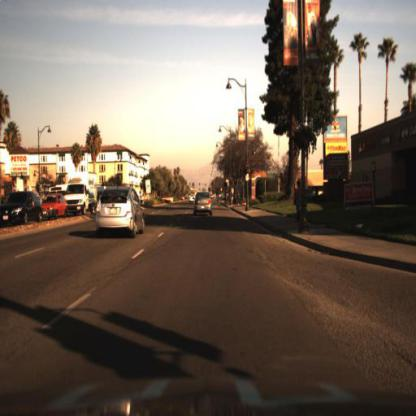car: (93, 184, 148, 239), (2, 192, 42, 226), (39, 189, 70, 223), (191, 190, 216, 222)
pedestrian: (295, 173, 309, 230), (295, 178, 303, 229), (236, 190, 241, 207)
truck: (63, 172, 98, 214), (65, 174, 98, 217)
